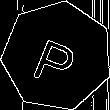P_N: (30, 25, 84, 86)
